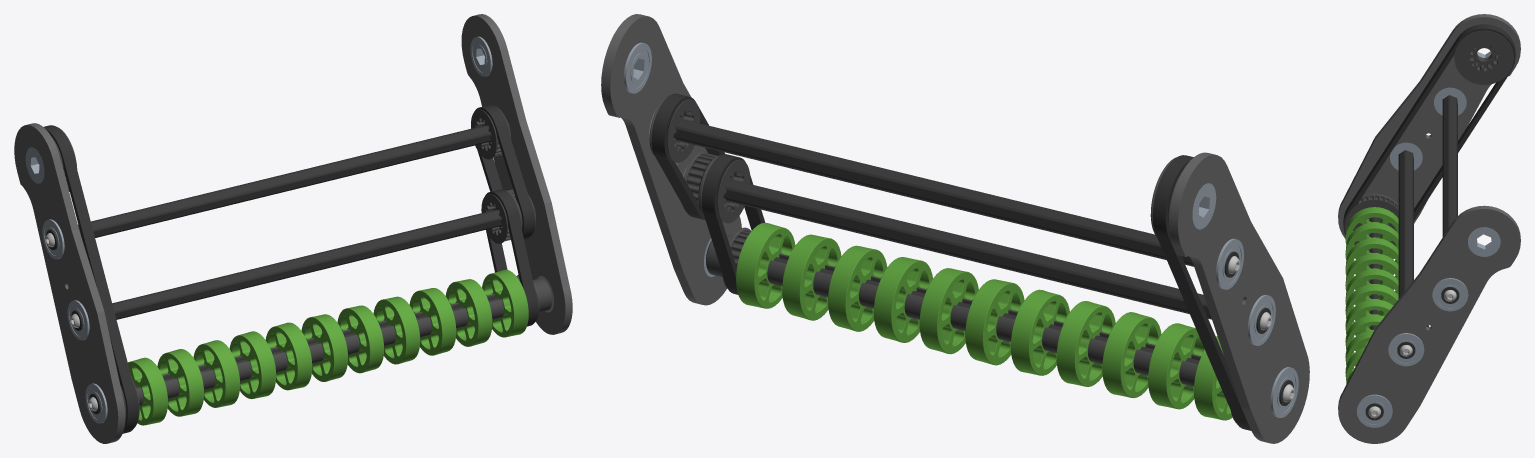
3 renders of one model, left to right at view 1: azimuth 30°, elevation 25°; view 2: azimuth 150°, elevation 25°; view 3: azimuth 270°, elevation 25°, orthographic. The views are drawn at different scales.
Visible parts, largest first — view 1: 2" OD 1/2" Hex Bore Compliant Wheel 35A (am-3462) (×11), Shaft (×3), Part 18, Part 13, 50t 5mm Belt (×2), 107t 5mm Belt, 24t HTD Pulley 9.53mm Wide (×2), .5" Hex ID 1.125" OD Flanged Bearing (217-2734); view 2: 2" OD 1/2" Hex Bore Compliant Wheel 35A (am-3462) (×11), Shaft (×3), Part 18, Part 13, 50t 5mm Belt (×2), .5" Hex ID 1.125" OD Flanged Bearing (217-2734) (×5), 107t 5mm Belt, 24t HTD Pulley 9.53mm Wide (×4); view 3: Part 13, Part 18, 2" OD 1/2" Hex Bore Compliant Wheel 35A (am-3462) (×10), Shaft (×3), .5" Hex ID 1.125" OD Flanged Bearing (217-2734) (×6), 32t HTD Pulley 9.53mm Wide (×2), 107t 5mm Belt.
Boxes of the visible parts, x1,y1,x2,y2 form: 2" OD 1/2" Hex Bore Compliant Wheel 35A (am-3462) (×11): [128, 269, 528, 425]; Shaft (×3): [45, 125, 502, 414]; Part 18: [14, 123, 125, 443]; Part 13: [461, 14, 572, 334]; 50t 5mm Belt (×2): [474, 105, 537, 326]; 107t 5mm Belt: [44, 125, 137, 433]; 24t HTD Pulley 9.53mm Wide (×2): [471, 106, 521, 243]; .5" Hex ID 1.125" OD Flanged Bearing (217-2734): [470, 36, 492, 76]; 2" OD 1/2" Hex Bore Compliant Wheel 35A (am-3462) (×11): [736, 222, 1232, 420]; Shaft (×3): [673, 118, 1294, 405]; Part 18: [1168, 152, 1309, 443]; Part 13: [601, 14, 741, 305]; 50t 5mm Belt (×2): [651, 93, 765, 294]; .5" Hex ID 1.125" OD Flanged Bearing (217-2734) (×5): [623, 42, 1298, 417]; 107t 5mm Belt: [1152, 155, 1251, 430]; 24t HTD Pulley 9.53mm Wide (×4): [649, 95, 751, 288]; Part 13: [1338, 205, 1520, 443]; Part 18: [1338, 14, 1520, 238]; 2" OD 1/2" Hex Bore Compliant Wheel 35A (am-3462) (×10): [1345, 207, 1398, 382]; Shaft (×3): [1365, 95, 1459, 420]; .5" Hex ID 1.125" OD Flanged Bearing (217-2734) (×6): [1356, 87, 1500, 427]; 32t HTD Pulley 9.53mm Wide (×2): [1345, 30, 1513, 245]; 107t 5mm Belt: [1343, 24, 1515, 235].
Size of the model in its own units: 0.4121 by 0.2251 by 0.1585.
